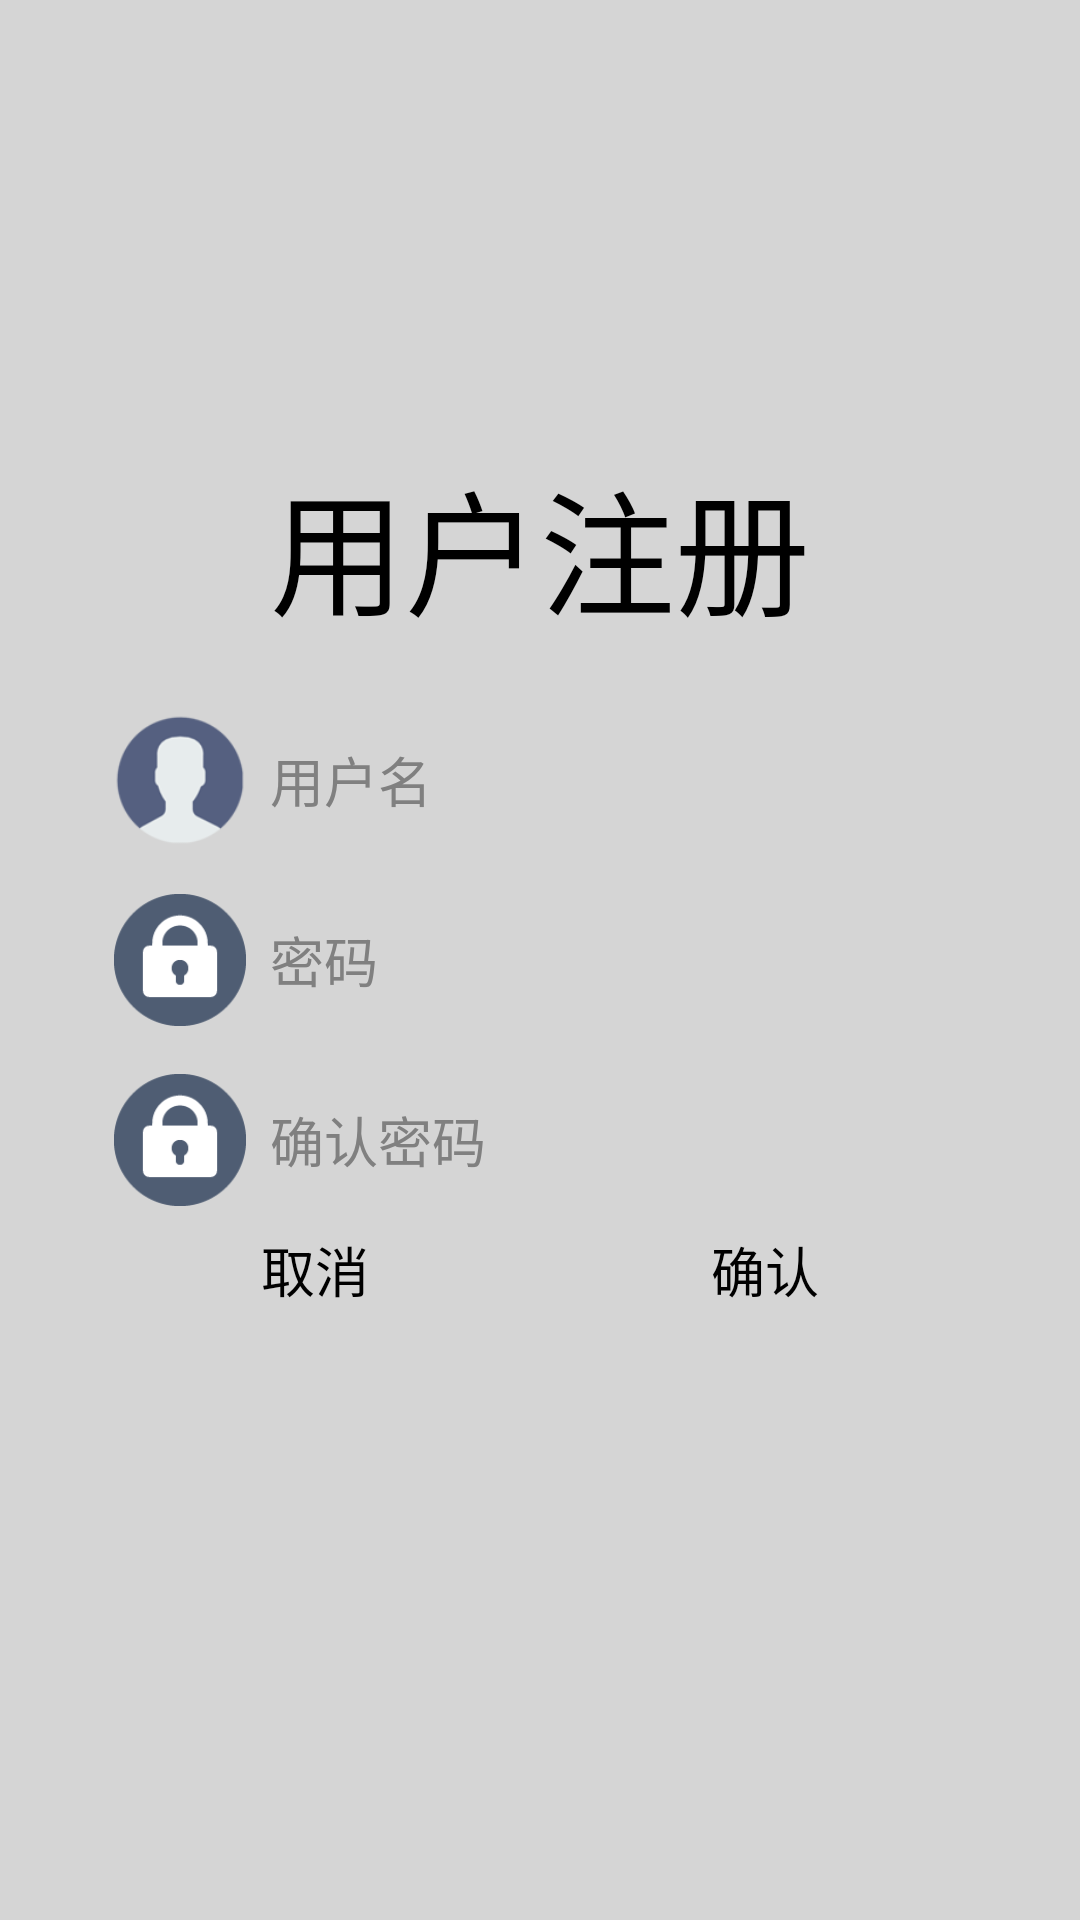

Point at icon controls on the screen. Image size 1080 x 1920, points as (x=x, y=y).
lock: (x=180, y=960), (x=180, y=1140)
